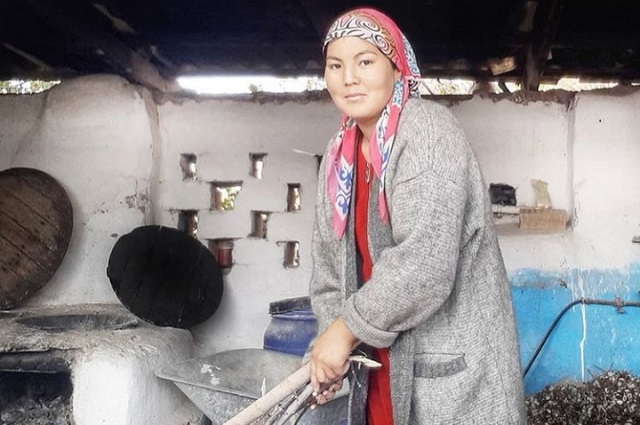person: (297, 16, 548, 418)
